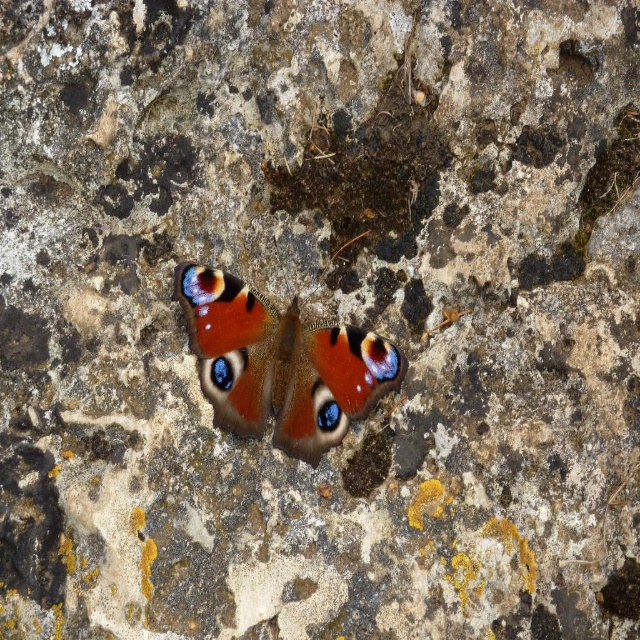Butterfly: (180, 245, 407, 461)
